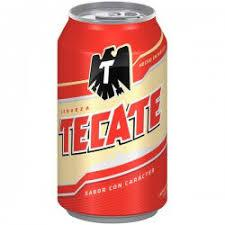beer: (56, 1, 168, 219)
